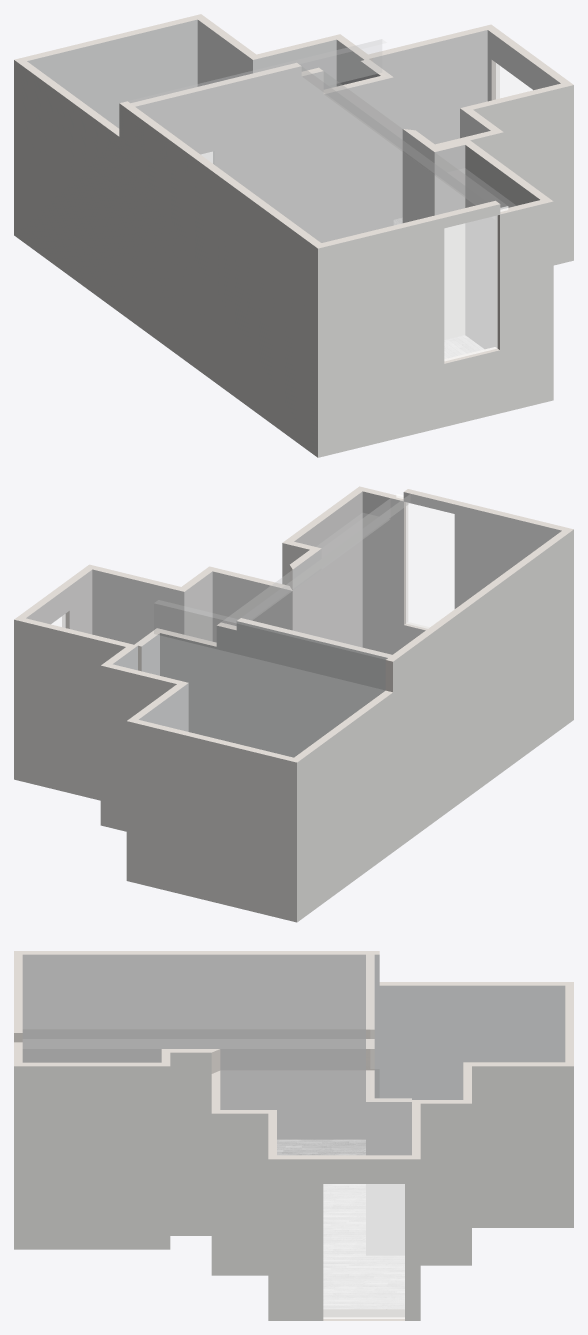
3 renders of one model, top to bottom at view 1: azimuth 30°, elevation 25°; view 2: azimuth 150°, elevation 25°; view 3: azimuth 270°, elevation 25°, orthographic. The views are drawn at different scales.
Visible parts, largest first — view 1: wall_4 (×2), ceiling_Other_1 (×6), wall_0 (×3), wall_1 (×2), ceiling_Other_2 (×3), window_0 (×2), wall_10 (×2), wall_2 (×2), wall_3, wall_11 (×2), wall_7, wall_12 (+7 smaller); view 2: wall_4 (×2), ceiling_Other_1 (×6), wall_10 (×2), ceiling_Other_2 (×3), wall_1 (×2), wall_0 (×3), wall_2, window_0 (×2), wall_11 (×2), wall_13, wall_3, wall_15 (+5 smaller); view 3: wall_4 (×3), ceiling_Other_1 (×6), wall_11 (×2), door_1 (×2), ceiling_Other_2 (×2), wall_9 (×2), wall_8 (×2), floor_Other_1 (×2), wall_14, wall_6, wall_12, wall_5 (+4 smaller).
Boxes of the visible parts, box(x1,y1,x2,y2) form: wall_4 (×2): box(14, 59, 321, 457); ceiling_Other_1 (×6): box(134, 30, 559, 242); wall_0 (×3): box(318, 200, 553, 457); wall_1 (×2): box(131, 62, 393, 242); ceiling_Other_2 (×3): box(28, 20, 386, 127); window_0 (×2): box(444, 206, 507, 360); wall_10 (×2): box(15, 14, 200, 128); wall_2 (×2): box(368, 24, 490, 219); wall_3: box(473, 85, 573, 265); wall_11 (×2): box(465, 139, 552, 348); wall_7: box(434, 145, 465, 339); wall_12: box(402, 129, 434, 222); wall_4 (×2): box(294, 529, 573, 922); ceiling_Other_1 (×6): box(27, 494, 560, 655); wall_10 (×2): box(126, 719, 296, 922); ceiling_Other_2 (×3): box(114, 600, 388, 756); wall_1 (×2): box(157, 618, 391, 757); wall_0 (×3): box(359, 486, 572, 654); wall_2: box(14, 619, 125, 800); window_0 (×2): box(396, 494, 454, 628); wall_11 (×2): box(282, 486, 362, 647); wall_13: box(100, 665, 176, 831); wall_3: box(92, 569, 184, 644); wall_15: box(212, 571, 292, 642); wall_4 (×3): box(14, 951, 573, 1139); ceiling_Other_1 (×6): box(23, 955, 411, 1154); wall_11 (×2): box(14, 1062, 170, 1249); door_1 (×2): box(323, 1184, 404, 1318); ceiling_Other_2 (×2): box(371, 955, 564, 1099); wall_9 (×2): box(463, 1062, 573, 1227); wall_8 (×2): box(268, 1155, 420, 1320); floor_Other_1 (×2): box(277, 1139, 404, 1316); wall_14: box(211, 1113, 268, 1275); wall_6: box(420, 1103, 471, 1265); wall_12: box(170, 1052, 211, 1235); wall_5: box(366, 1102, 411, 1255).
Bounding box in the file's own units: 4.81 × 2.44 × 6.42.
Materials: 39 (2 with a texture image).
